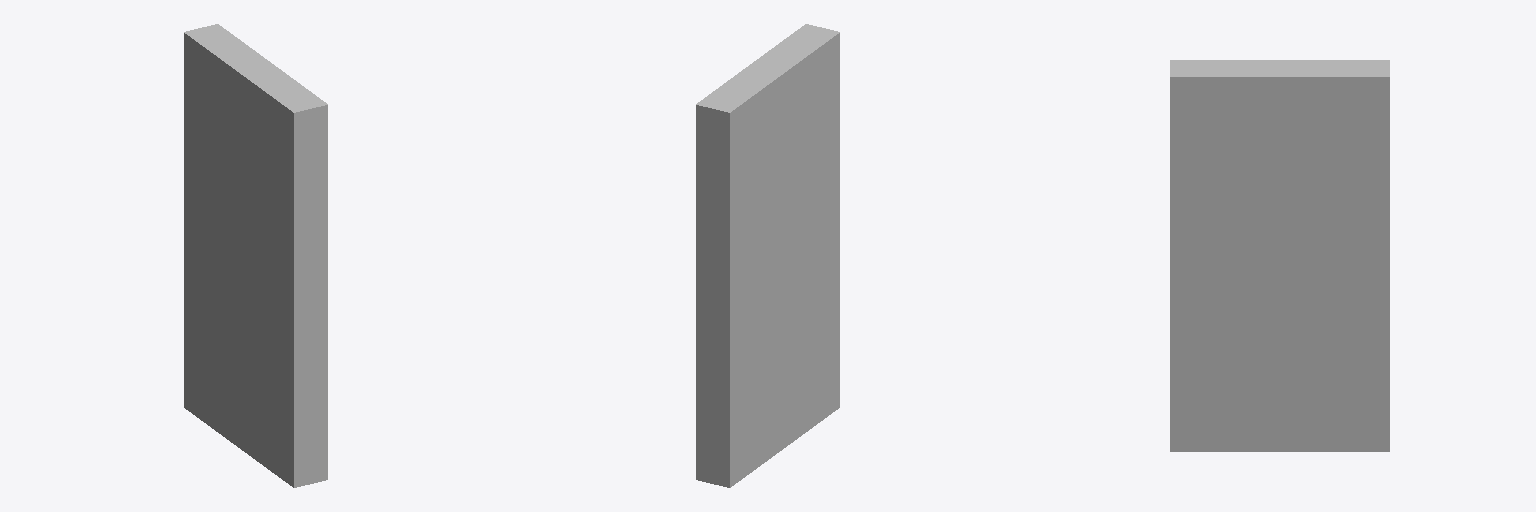
File: moving_obstacle1.obj
The picture shows the model from 3 angles: view 1: azimuth 30°, elevation 25°; view 2: azimuth 150°, elevation 25°; view 3: azimuth 270°, elevation 25°; orthographic projection.
Parts seen in each view (by area): view 1: Cube; view 2: Cube; view 3: Cube.
Part boxes in pixels (x1,y1,x2,y2): Cube: (184, 24, 327, 487); Cube: (696, 24, 839, 487); Cube: (1170, 60, 1389, 451).
Size of the model in its own units: 0.3595 by 3.75 by 2.